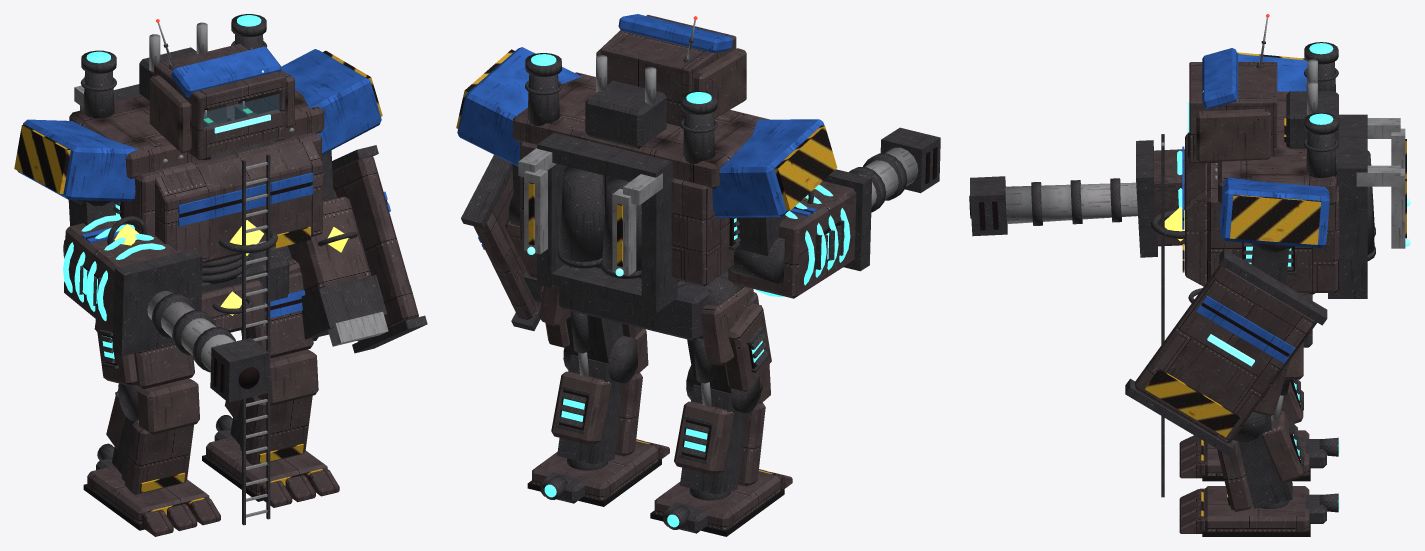
Rendered from mech_bulwark.glb.
3 views of the same model, side by side, from view 1: azimuth 30°, elevation 25°; view 2: azimuth 150°, elevation 25°; view 3: azimuth 270°, elevation 25° (orthographic). The views are drawn at different scales.
Visible parts, largest first — view 1: torso_bulwark_armor, forearm_R_bulwark_frame, cockpit_bulwark_armor, hand_L_bulwark_armor, shoulder_L_bulwark_livery, torso_bulwark_armor2, shoulder_R_bulwark_livery, forearm_L_bulwark_armor2, forearm_L_bulwark_frame, forearm_R_bulwark_armor, shin_R_bulwark_armor2, shin_R_bulwark_armor (+39 smaller); view 2: torso_bulwark_frame, torso_bulwark_dark, torso_bulwark_armor2, shoulder_R_bulwark_livery, torso_bulwark_armor, cockpit_bulwark_armor, shoulder_L_bulwark_livery, forearm_R_bulwark_armor, pelvis_bulwark_frame, spine_bulwark_frame, shin_R_bulwark_frame, shin_L_bulwark_frame (+37 smaller); view 3: hand_L_bulwark_armor, torso_bulwark_frame, torso_bulwark_armor, shoulder_L_bulwark_hazard, cockpit_bulwark_armor2, hand_R_bulwark_metal, cockpit_bulwark_armor, torso_bulwark_armor2, hand_L_bulwark_frame, foot_L_bulwark_armor, shoulder_L_bulwark_livery, shin_L_bulwark_frame (+26 smaller).
Boxes of the visible parts, <box> form: torso_bulwark_armor: <box>124,132,322,263</box>; forearm_R_bulwark_frame: <box>75,216,202,356</box>; cockpit_bulwark_armor: <box>154,44,285,160</box>; hand_L_bulwark_armor: <box>332,156,418,341</box>; shoulder_L_bulwark_livery: <box>281,49,381,154</box>; torso_bulwark_armor2: <box>69,89,324,178</box>; shoulder_R_bulwark_livery: <box>17,119,137,201</box>; forearm_L_bulwark_armor2: <box>287,196,371,294</box>; forearm_L_bulwark_frame: <box>301,231,387,339</box>; forearm_R_bulwark_armor: <box>64,221,178,332</box>; shin_R_bulwark_armor2: <box>106,378,199,448</box>; shin_R_bulwark_armor: <box>124,420,193,494</box>; torso_bulwark_frame: <box>525,53,740,313</box>; torso_bulwark_dark: <box>527,74,715,310</box>; torso_bulwark_armor2: <box>513,72,769,189</box>; shoulder_R_bulwark_livery: <box>712,119,824,217</box>; torso_bulwark_armor: <box>520,141,734,286</box>; cockpit_bulwark_armor: <box>600,15,736,126</box>; shoulder_L_bulwark_livery: <box>457,47,581,166</box>; forearm_R_bulwark_armor: <box>728,181,856,298</box>; pelvis_bulwark_frame: <box>558,269,728,340</box>; spine_bulwark_frame: <box>585,80,666,148</box>; shin_R_bulwark_frame: <box>678,384,745,494</box>; shin_L_bulwark_frame: <box>555,354,622,464</box>; hand_L_bulwark_armor: <box>1135,265,1316,443</box>; torso_bulwark_frame: <box>1150,42,1375,298</box>; torso_bulwark_armor: <box>1185,134,1338,292</box>; shoulder_L_bulwark_hazard: <box>1230,194,1320,244</box>; cockpit_bulwark_armor2: <box>1196,109,1270,162</box>; hand_R_bulwark_metal: <box>1005,182,1137,223</box>; cockpit_bulwark_armor: <box>1189,62,1277,162</box>; torso_bulwark_armor2: <box>1218,91,1336,204</box>; hand_L_bulwark_frame: <box>1125,248,1327,455</box>; foot_L_bulwark_armor: <box>1203,486,1309,531</box>; shoulder_L_bulwark_livery: <box>1219,177,1329,247</box>; shin_L_bulwark_frame: <box>1238,415,1303,508</box>.
Size of the model in its own units: 8.56 by 12 by 10.5.
16 materials, 7 textured.
